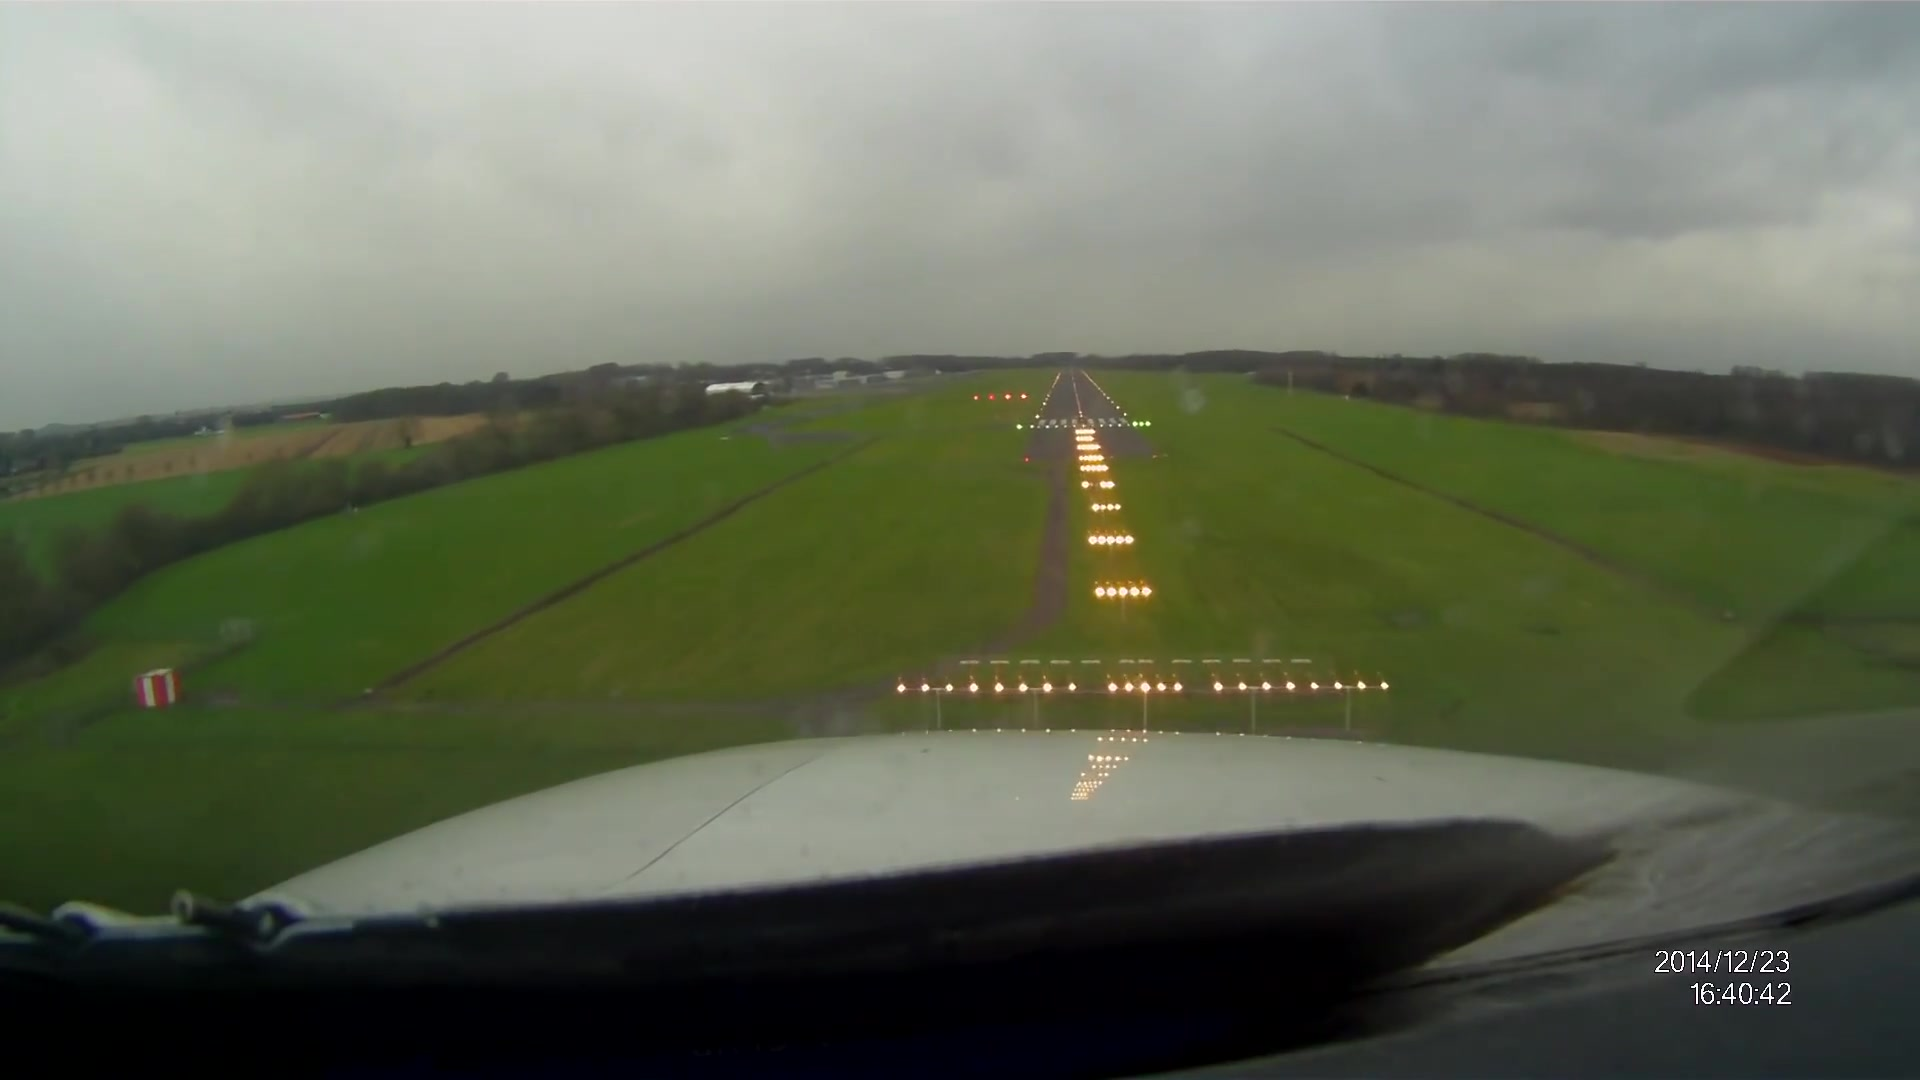entrance: (1036, 418, 1129, 425)
runway: (1029, 371, 1142, 430)
